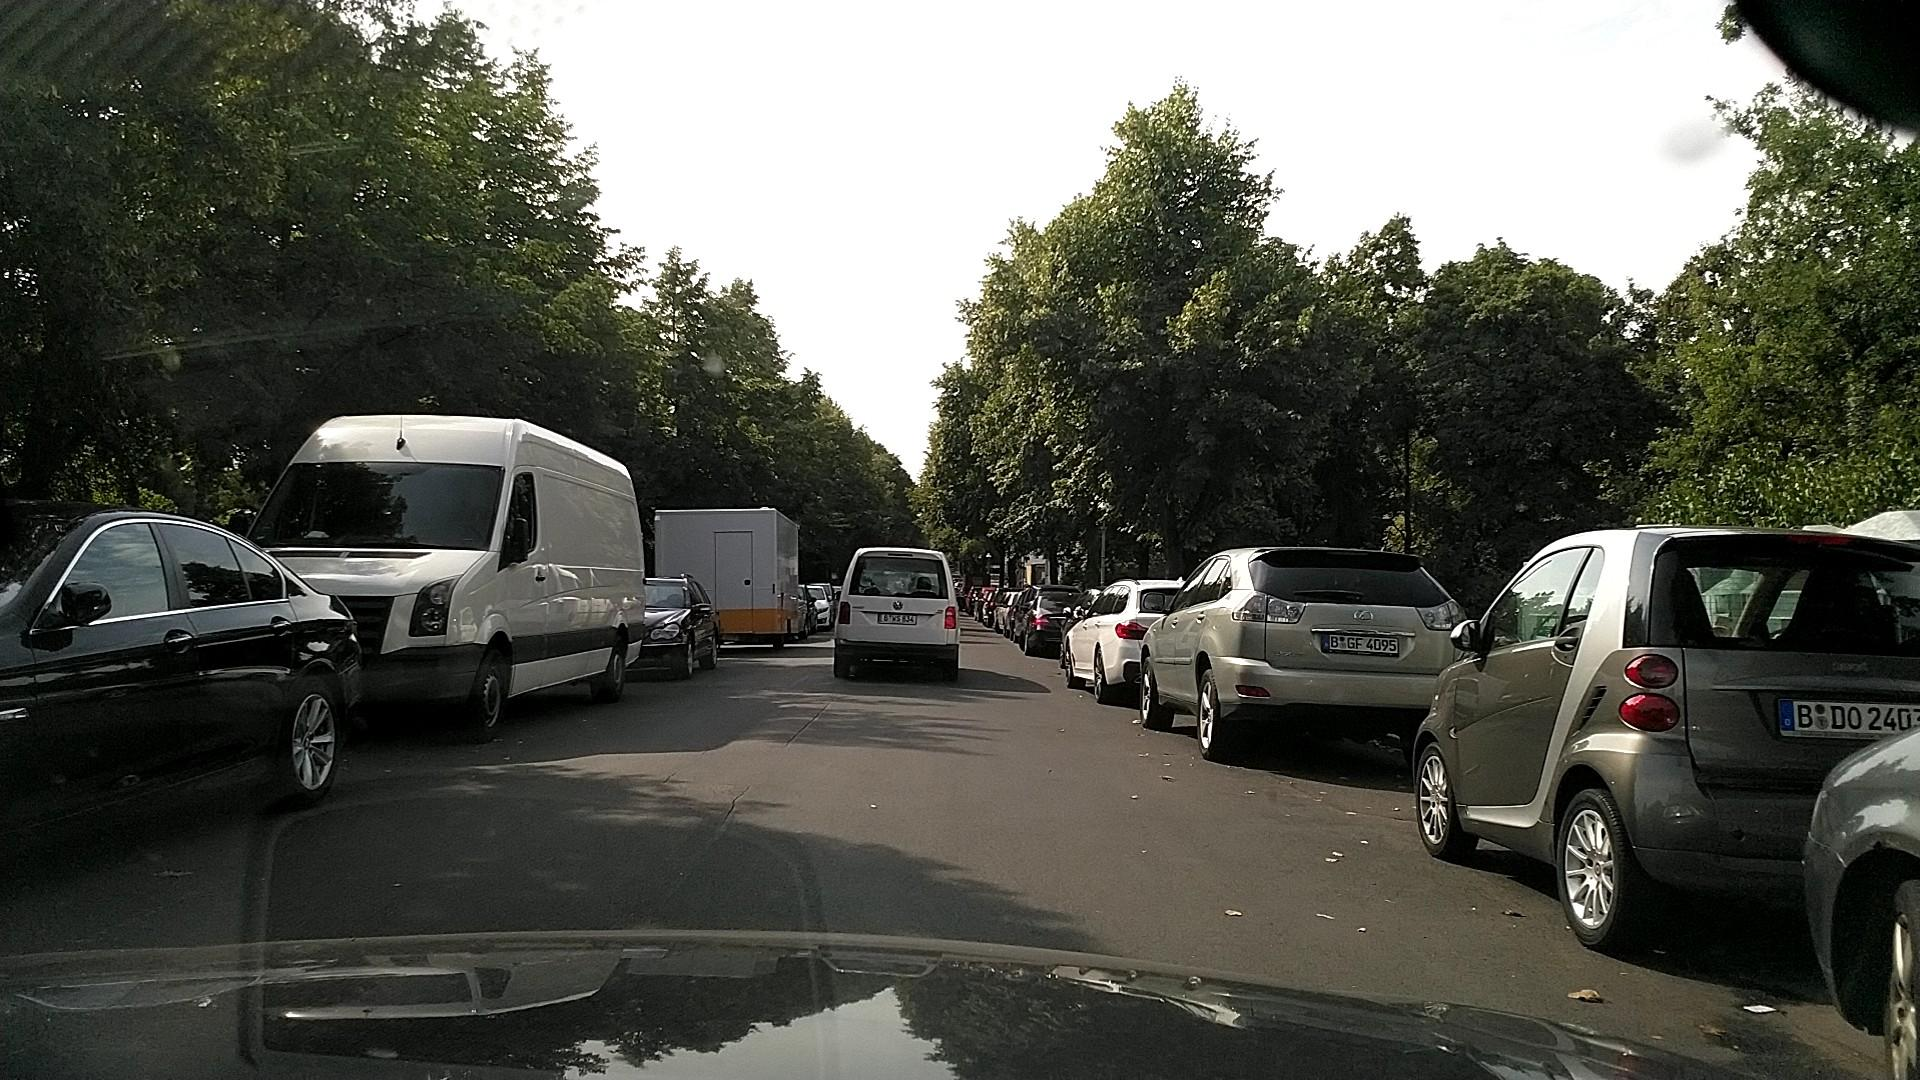Vehicle registration plate: (1777, 698, 1920, 738), (1320, 634, 1401, 656), (877, 613, 917, 625)
